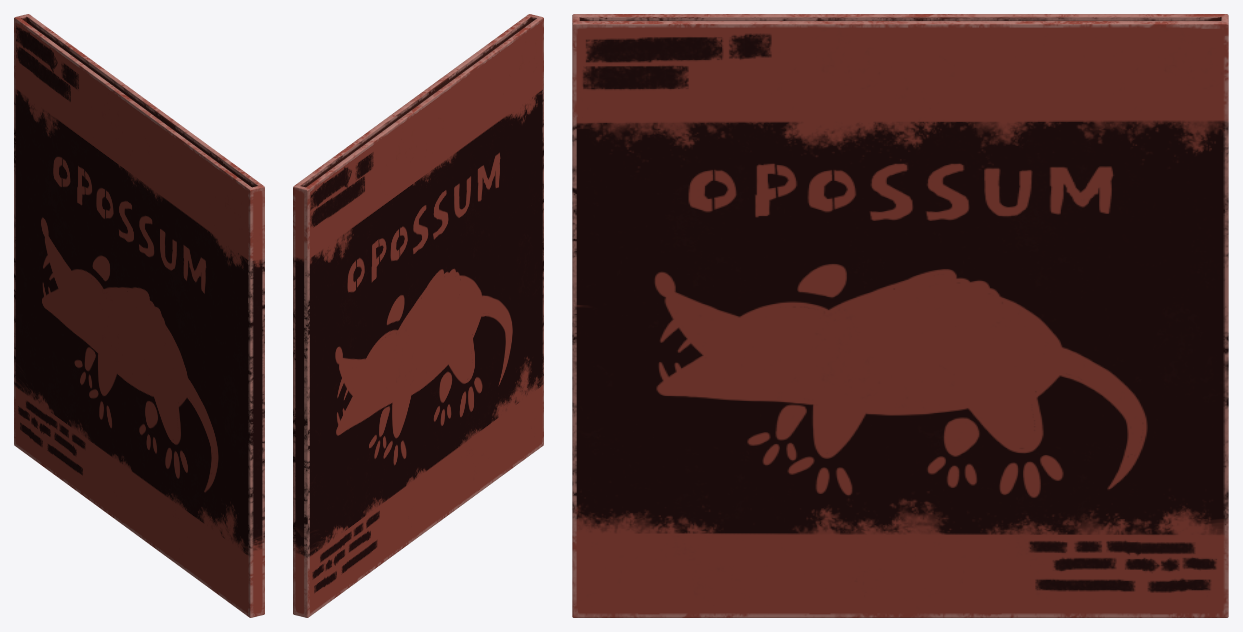
File: Band_Vinyl_Case_Textured.fbx
The picture shows the model from 3 angles, left to right: view 1: azimuth 30°, elevation 25°; view 2: azimuth 150°, elevation 25°; view 3: azimuth 270°, elevation 25°; orthographic projection. The views are drawn at different scales.
Parts seen in each view (by area): view 1: Vinyl_case; view 2: Vinyl_case; view 3: Vinyl_case.
Part boxes in pixels (x1,y1,x2,y2): Vinyl_case: (14,14,264,617); Vinyl_case: (293,14,543,617); Vinyl_case: (572,14,1228,617).
Size of the model in its own units: 0.2914 by 7.82 by 7.82.
Materials: 1 (1 with a texture image).
